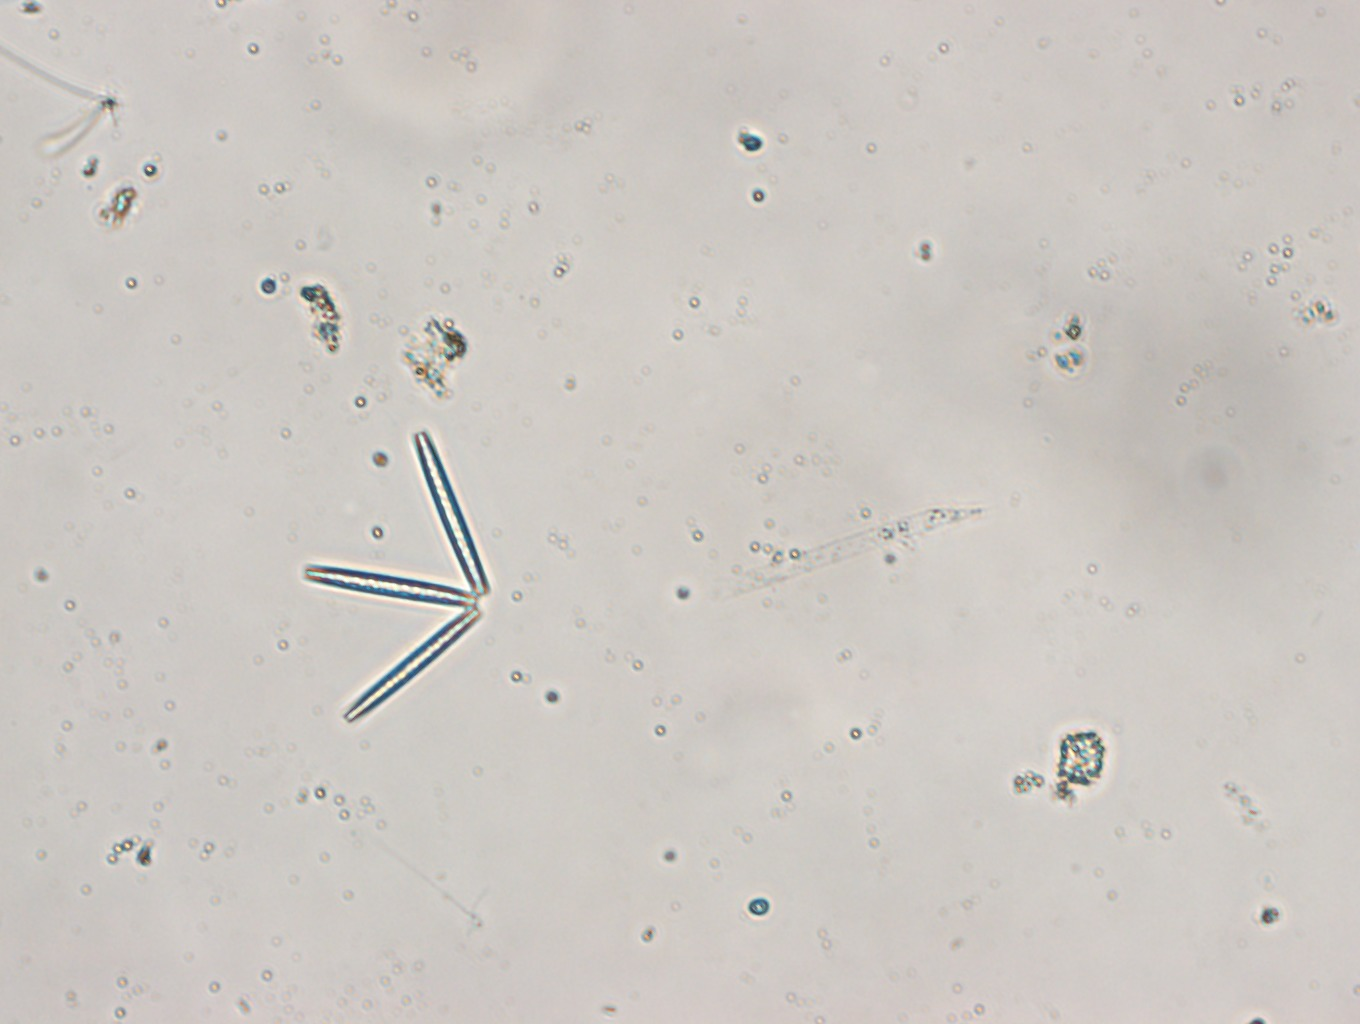thalassionema nitzschioides: (294, 427, 497, 727)
